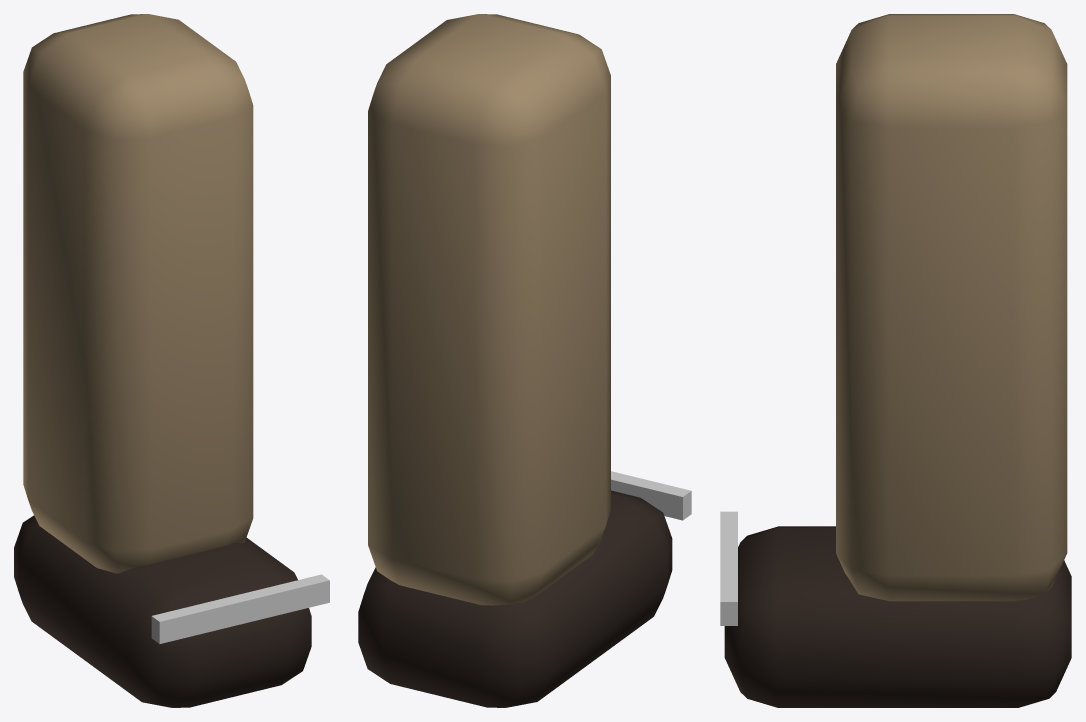
The model's file is person_leg_khaki.glb.
The picture shows the model from 3 angles, left to right: view 1: azimuth 30°, elevation 25°; view 2: azimuth 150°, elevation 25°; view 3: azimuth 270°, elevation 25°; orthographic projection. The views are drawn at different scales.
Parts seen in each view (by area): view 1: person_leg_khaki; view 2: person_leg_khaki; view 3: person_leg_khaki.
Boxes of the visible parts, x1,y1,x2,y2 form: person_leg_khaki: (14, 14, 329, 707); person_leg_khaki: (358, 14, 691, 707); person_leg_khaki: (720, 14, 1071, 707).
Size of the model in its own units: 0.05 by 0.16 by 0.079.
